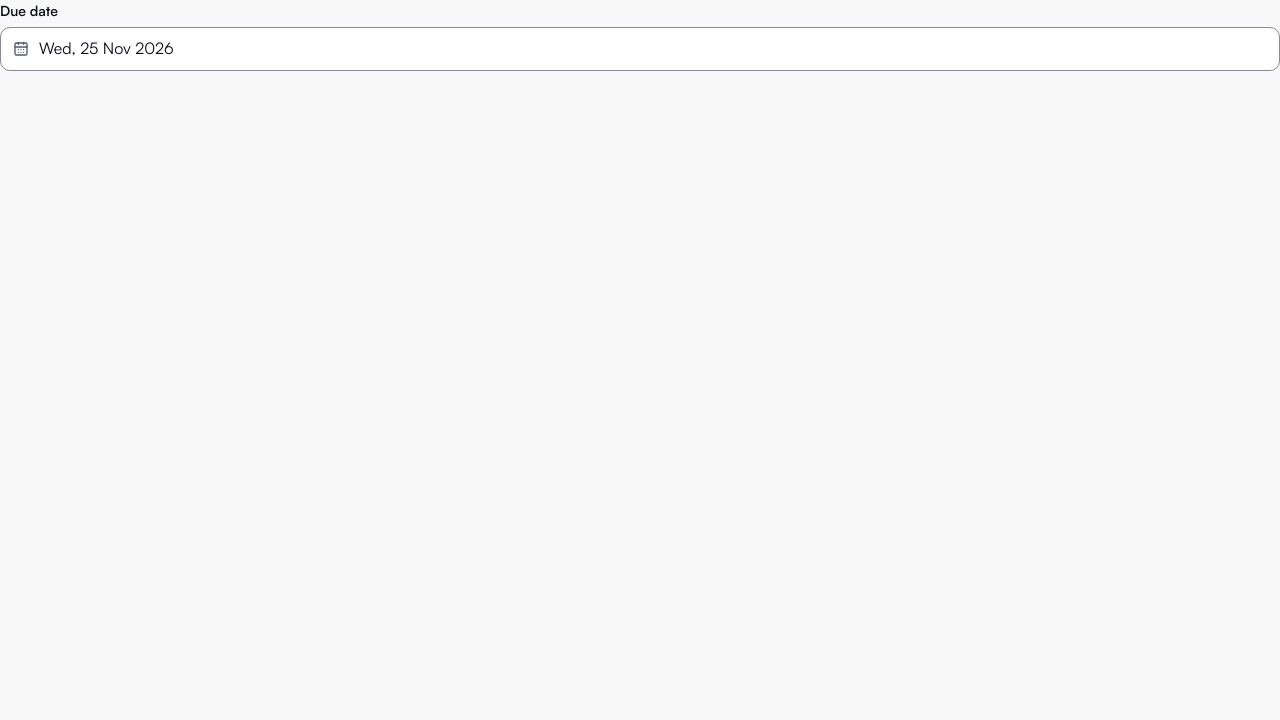
it: DatePicker › picks a shortcut, clears, and closes on Escape without picking
The image size is (1280, 720).
Click the button named "Due date": (106, 48) [0,27,1279,71]
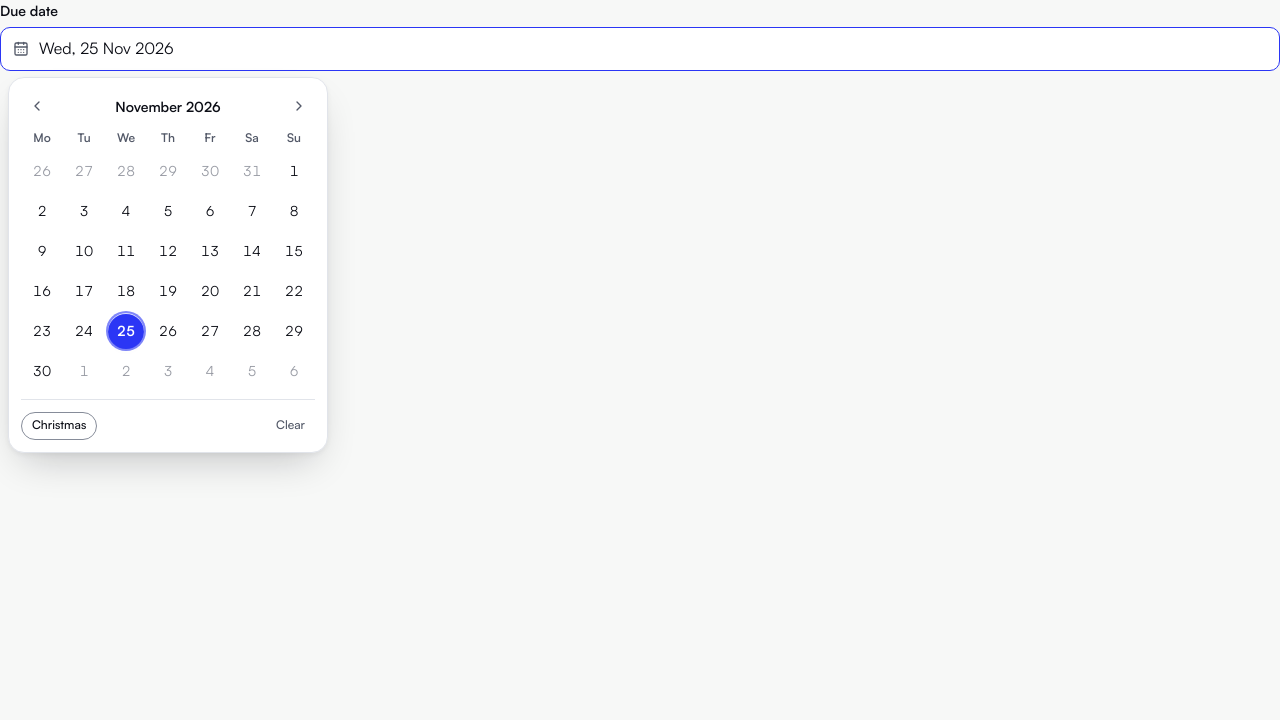
Click the button "Christmas": (59, 426) [21,412,97,440]
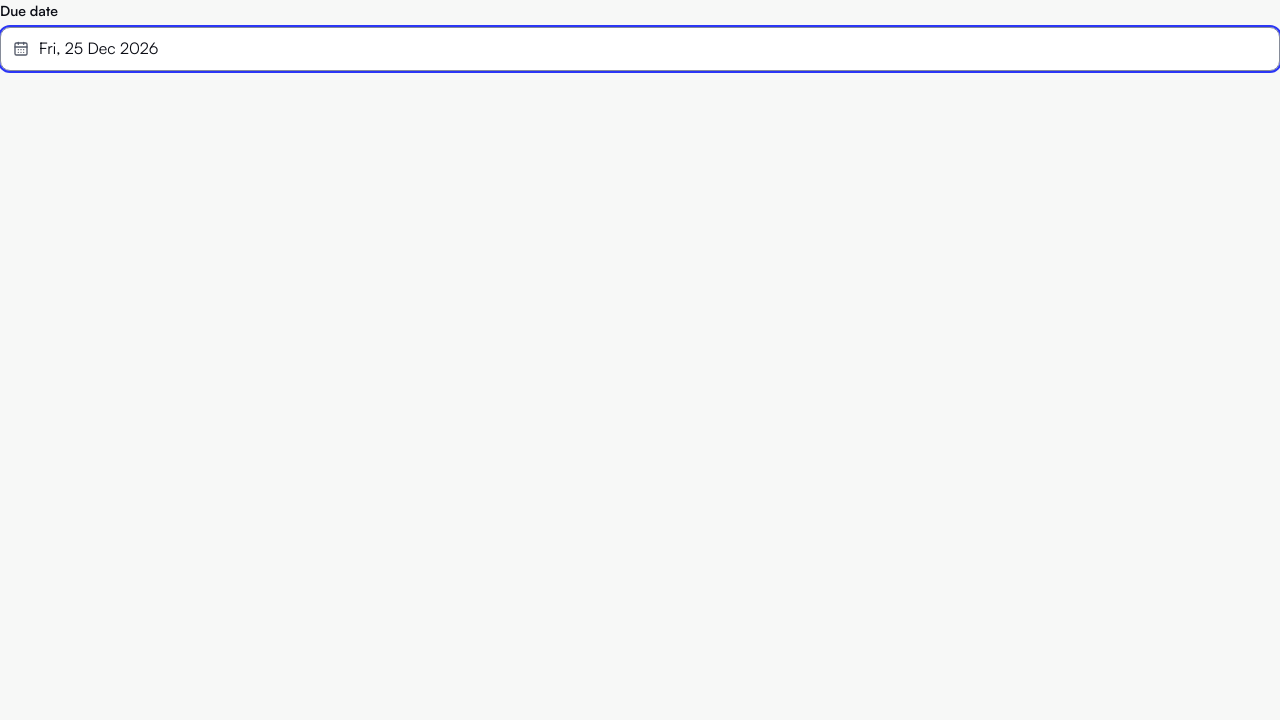
Expected: the button named "Due date" reads "Fri, 25 Dec 2026"
Click the button named "Due date": (99, 48) [0,27,1279,71]
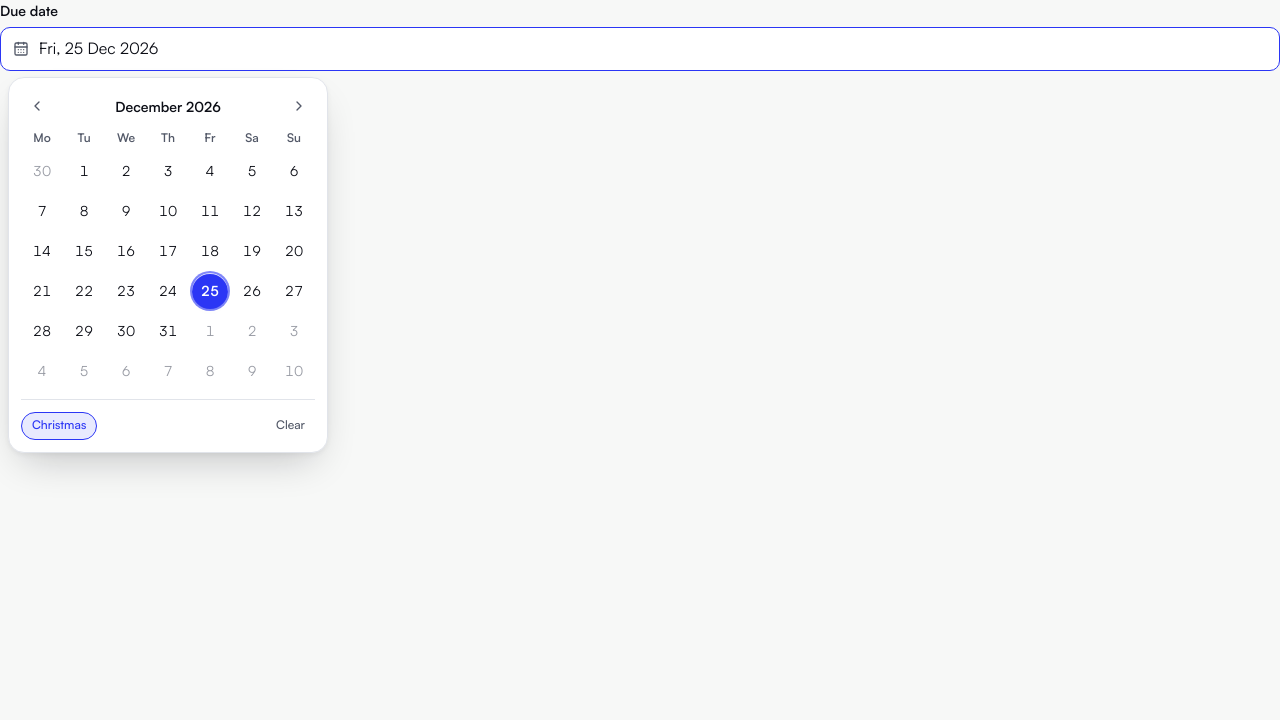
Press Escape
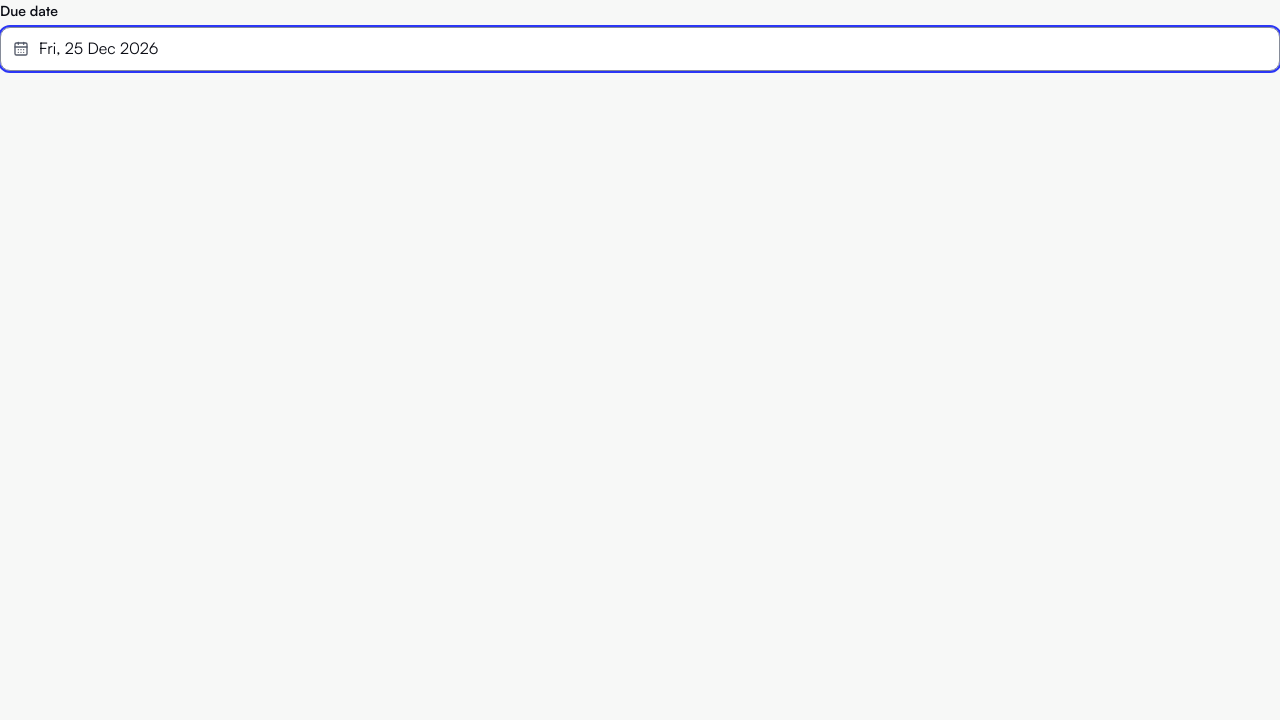
Expected: the dialog is gone
Click the button named "Due date": (99, 48) [0,27,1279,71]
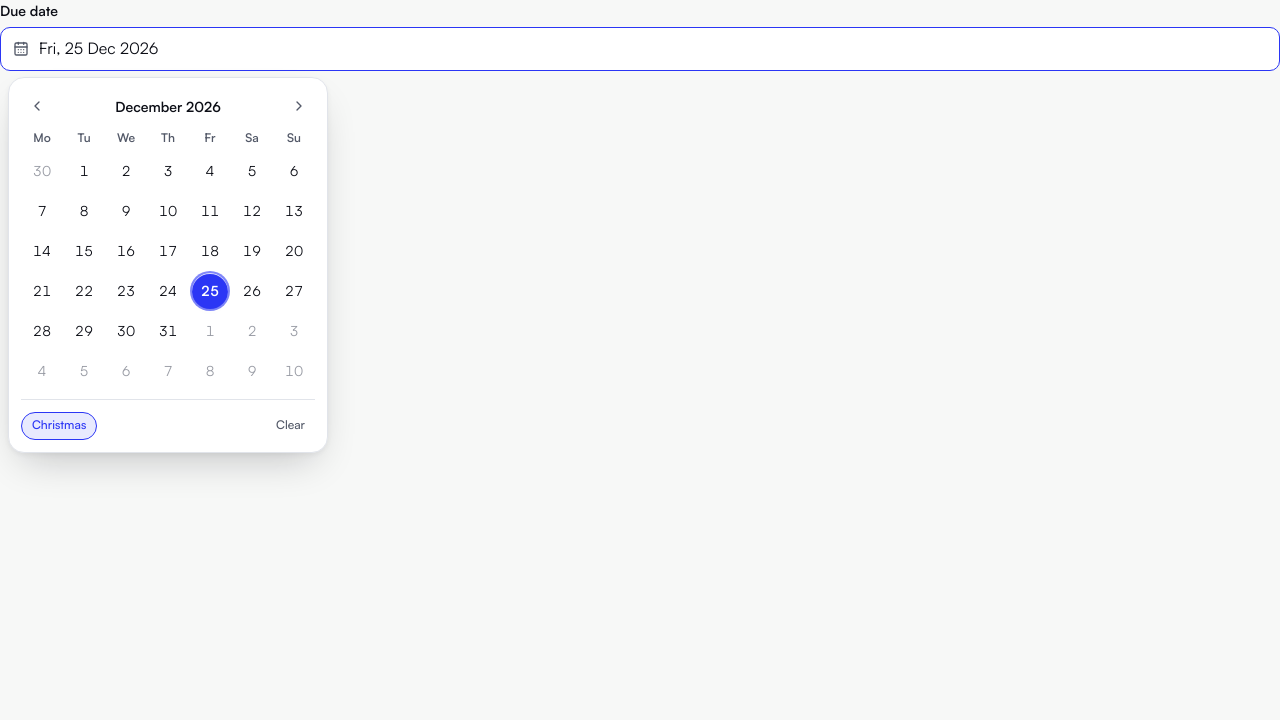
Click the button "Clear": (291, 426) [266,412,315,440]
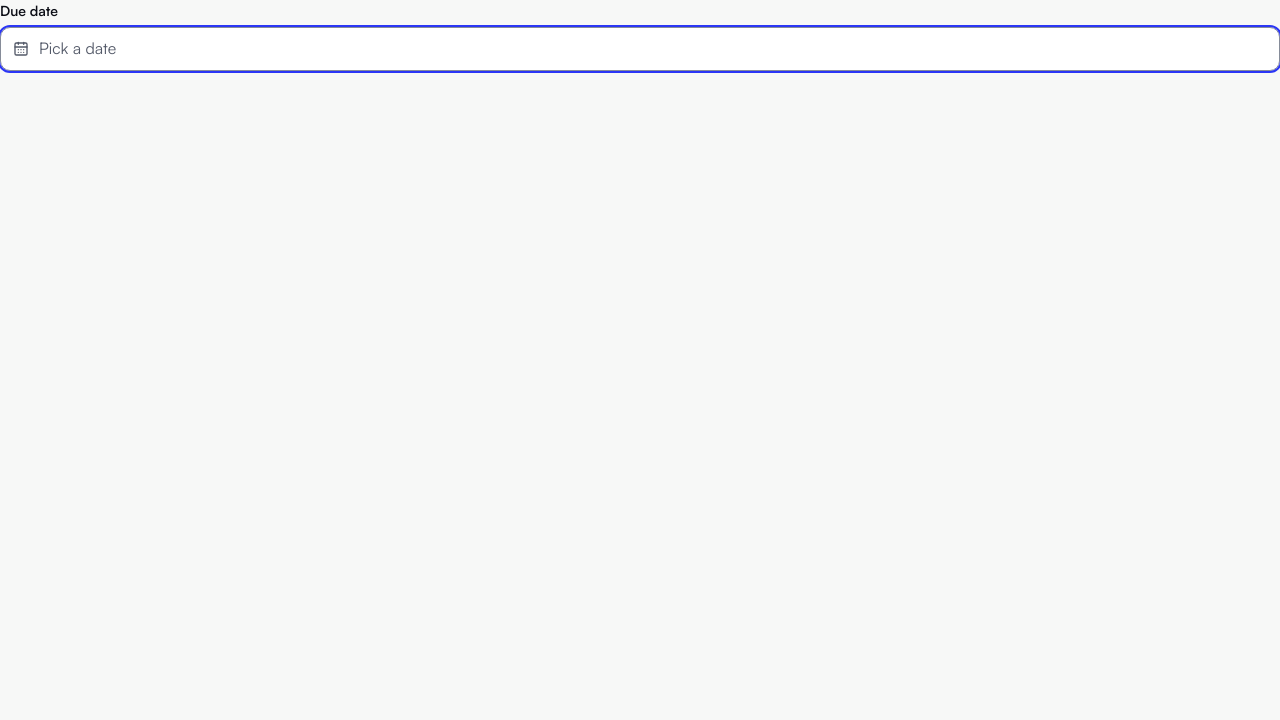
Expected: the button named "Due date" reads "Pick a date", [0,27,1279,71]
